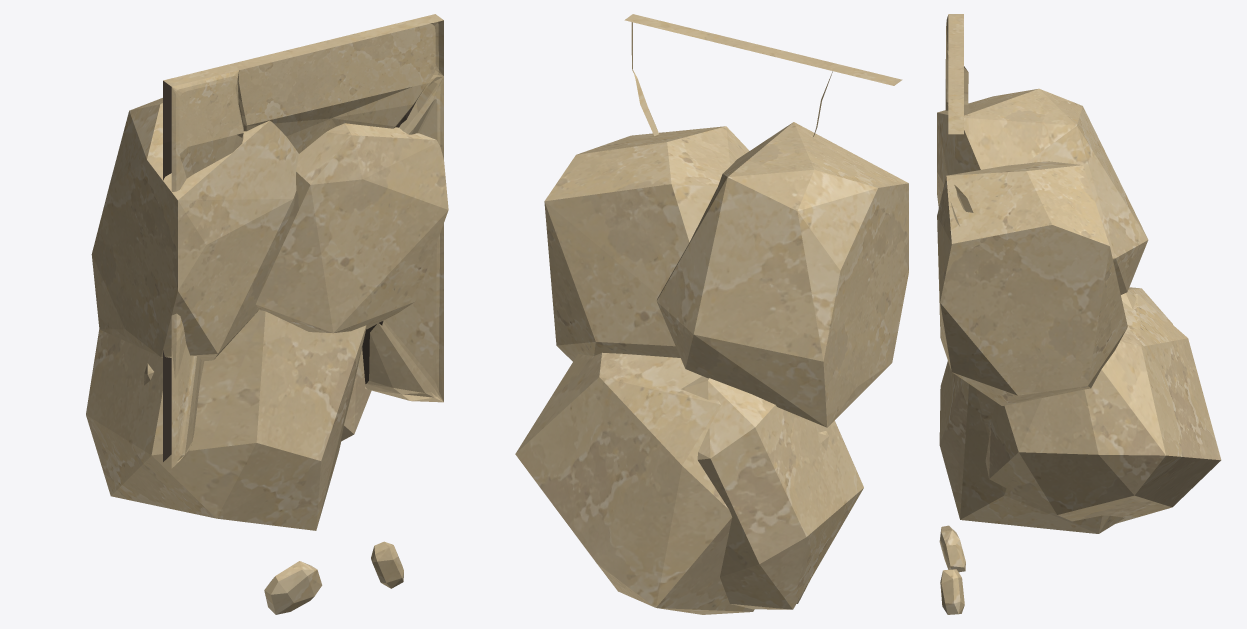
The model's file is ground_bottom_square_edge_08.glb.
The picture shows the model from 3 angles, left to right: view 1: azimuth 30°, elevation 25°; view 2: azimuth 150°, elevation 25°; view 3: azimuth 270°, elevation 25°; orthographic projection. The views are drawn at different scales.
Parts seen in each view (by area): view 1: GroundBottomSquareEdge08_Body; view 2: GroundBottomSquareEdge08_Body; view 3: GroundBottomSquareEdge08_Body.
Boxes of the visible parts, x1=… form: GroundBottomSquareEdge08_Body: x1=86, y1=14, x2=448, y2=614; GroundBottomSquareEdge08_Body: x1=515, y1=14, x2=908, y2=614; GroundBottomSquareEdge08_Body: x1=937, y1=14, x2=1221, y2=614.
Bounding box in the file's own units: 1 × 1.95 × 1.04.
Materials: 5 (4 with a texture image).
